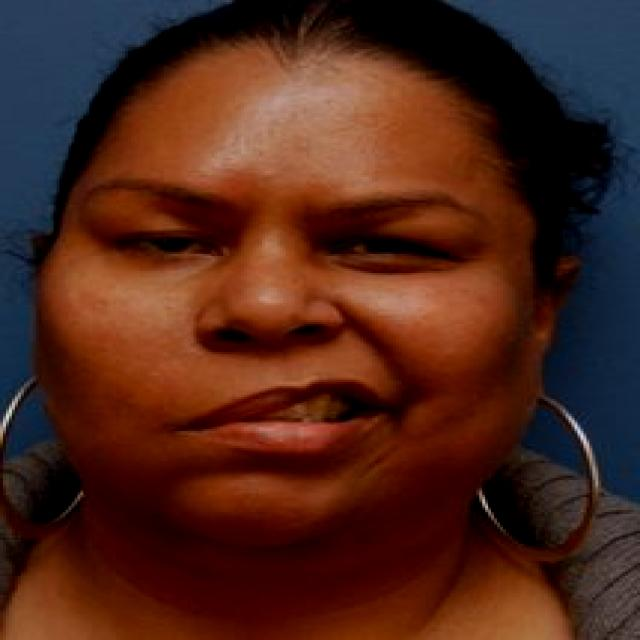stroke_face: (47, 59, 530, 538)
